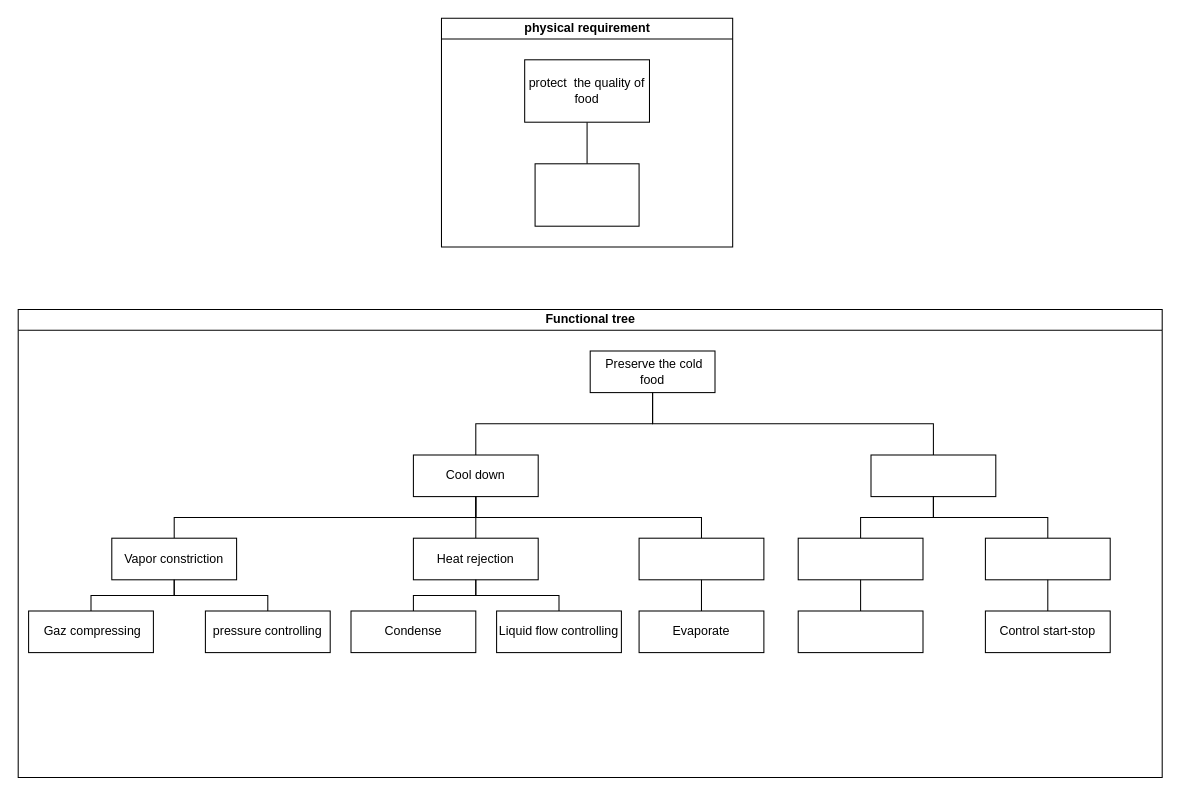
Image size: 1180x796. Some labels were removed from this diagram. Each missing label, with the centre of its shape:
"Ambient temperature sensing" goes at point 1047,558.
"Cold air circulation" goes at point 860,558.
"Evaporation" goes at point 701,558.
"Preserve the temperature" goes at point 933,475.
"Refrigerator" goes at point 586,194.
"To measure temperature" goes at point 860,631.
